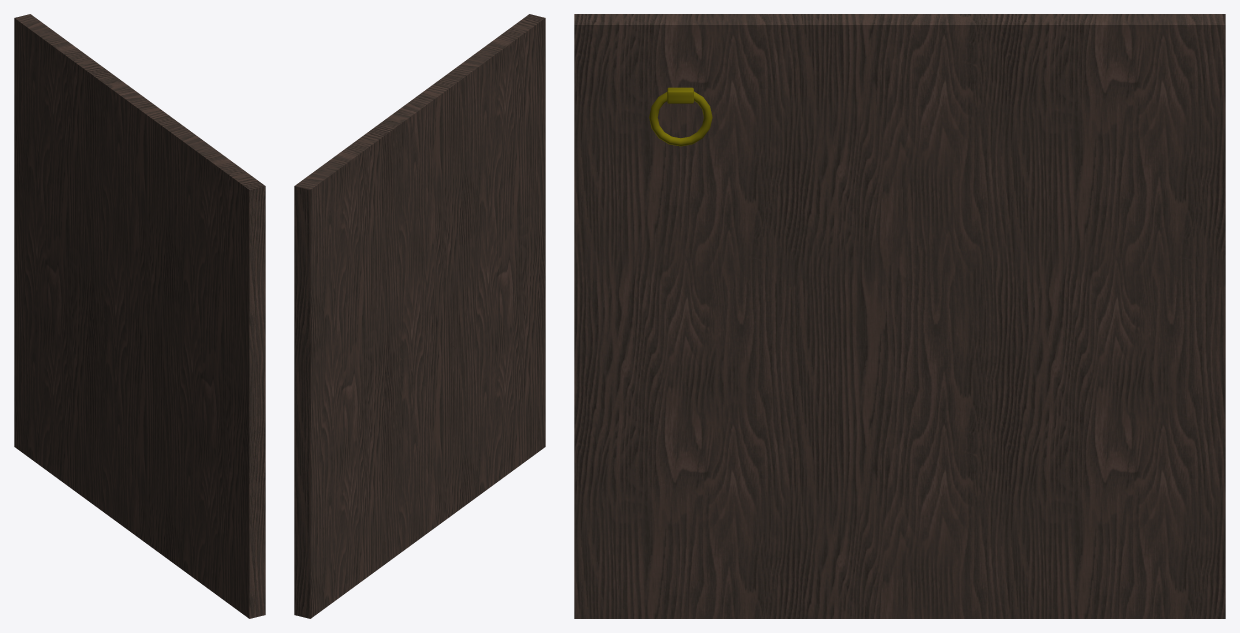
File: nightstand_door.glb
3 renders of one model, left to right at view 1: azimuth 30°, elevation 25°; view 2: azimuth 150°, elevation 25°; view 3: azimuth 270°, elevation 25°, orthographic. The views are drawn at different scales.
Parts seen in each view (by area): view 1: NightStand; view 2: NightStand; view 3: NightStand.
Part boxes in pixels (left/top/right/bottom): NightStand: left=14, top=14, right=265, bottom=618; NightStand: left=294, top=14, right=545, bottom=618; NightStand: left=574, top=14, right=1225, bottom=618.
Size of the model in its own units: 0.0347 by 0.6482 by 0.6441.
Materials: 2 (1 with a texture image).
